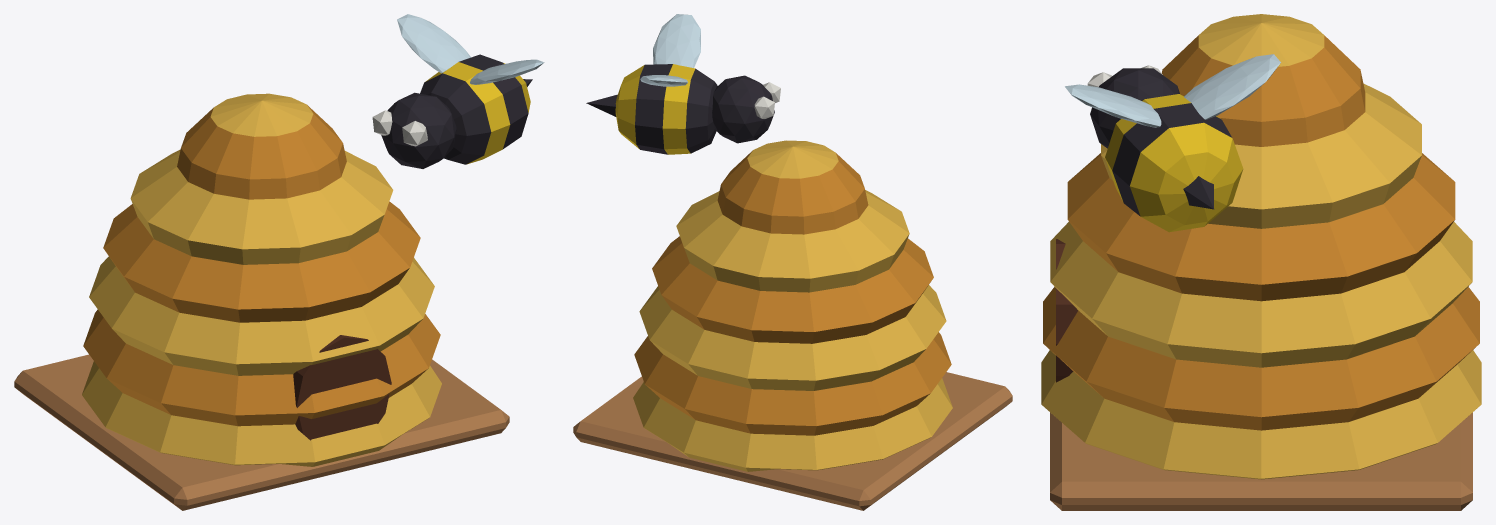
Rendered from habitat_prop_bumble.fbx.
3 views of the same model, side by side, from view 1: azimuth 30°, elevation 25°; view 2: azimuth 150°, elevation 25°; view 3: azimuth 270°, elevation 25° (orthographic). The views are drawn at different scales.
Visible parts, largest first — view 1: habitat_prop_bumble; view 2: habitat_prop_bumble; view 3: habitat_prop_bumble.
Boxes of the visible parts, x1,y1,x2,y2 form: habitat_prop_bumble: (14, 14, 544, 510); habitat_prop_bumble: (573, 14, 1012, 510); habitat_prop_bumble: (1041, 14, 1481, 510).
Size of the model in its own units: 1.5 by 1.22 by 1.09.
